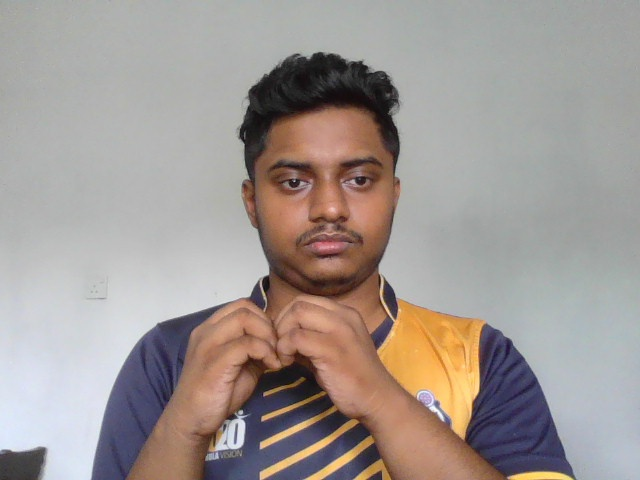More: (180, 293, 380, 431)
